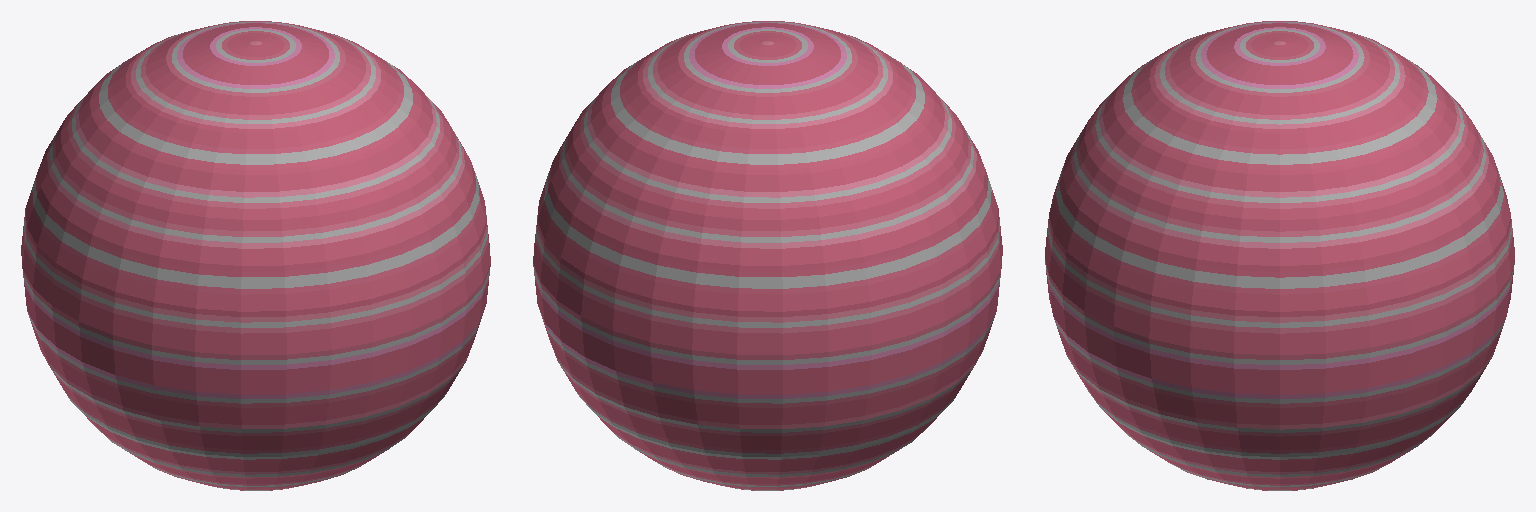
The picture shows the model from 3 angles: view 1: azimuth 30°, elevation 25°; view 2: azimuth 150°, elevation 25°; view 3: azimuth 270°, elevation 25°; orthographic projection.
Visible parts, largest first — view 1: 球; view 2: 球; view 3: 球.
Boxes of the visible parts, x1=… form: 球: x1=21, y1=21, x2=490, y2=490; 球: x1=533, y1=21, x2=1002, y2=490; 球: x1=1045, y1=21, x2=1514, y2=490.
Size of the model in its own units: 2 by 2 by 2.
1 materials, 1 textured.